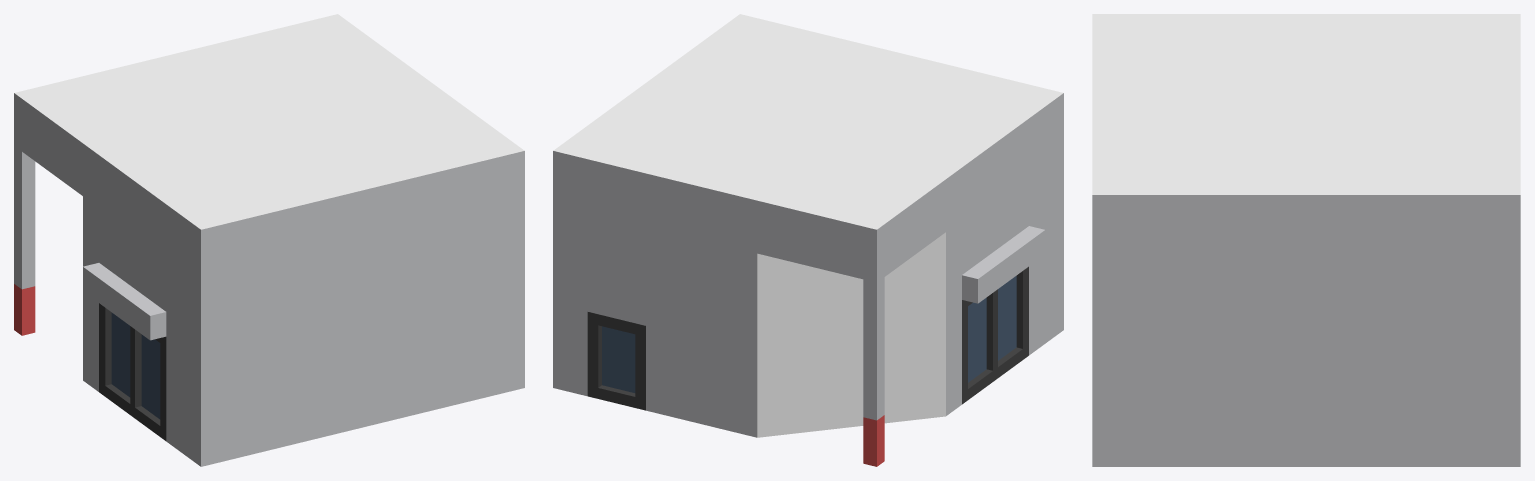
File: pitsGarageCorner.fbx
3 views of the same model, side by side, from view 1: azimuth 30°, elevation 25°; view 2: azimuth 150°, elevation 25°; view 3: azimuth 270°, elevation 25° (orthographic). The views are drawn at different scales.
Parts seen in each view (by area): view 1: pitsGarageCorner; view 2: pitsGarageCorner; view 3: pitsGarageCorner.
Boxes of the visible parts, left/top/right/bottom form: pitsGarageCorner: left=14, top=14, right=524, bottom=466; pitsGarageCorner: left=553, top=14, right=1063, bottom=466; pitsGarageCorner: left=1092, top=14, right=1520, bottom=466.
Size of the model in its own units: 10.5 by 7 by 10.
